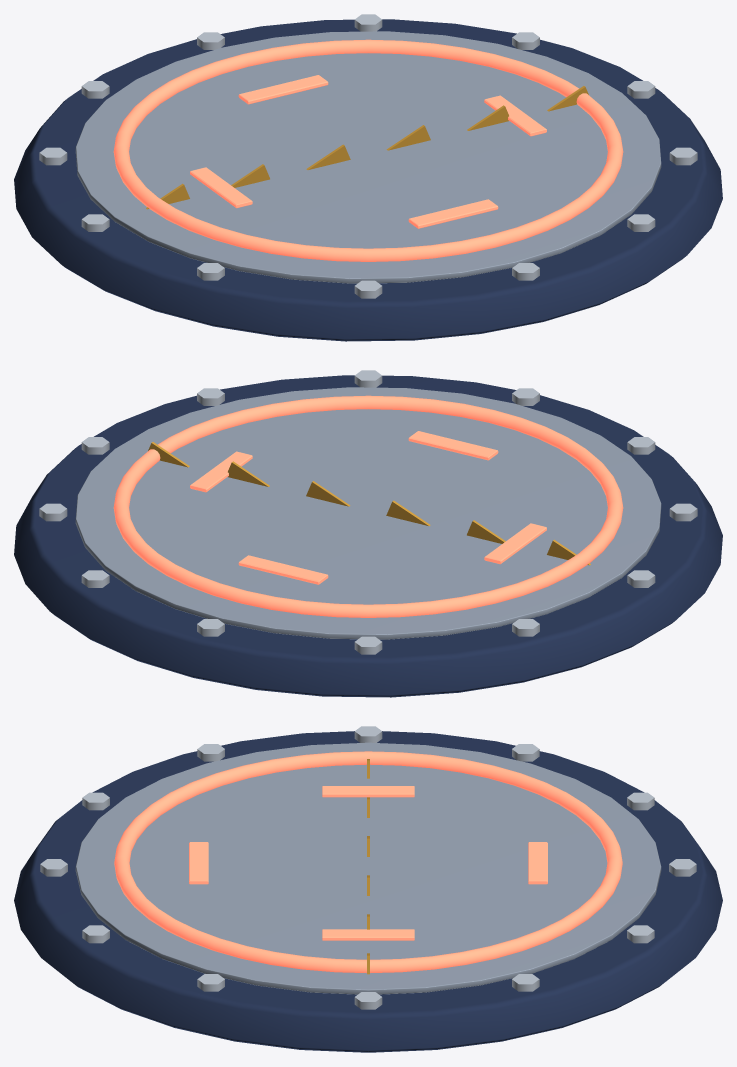
Rendered from socket_barricade_empty.glb.
The picture shows the model from 3 angles, top to bottom: view 1: azimuth 30°, elevation 25°; view 2: azimuth 150°, elevation 25°; view 3: azimuth 270°, elevation 25°; orthographic projection.
Parts seen in each view (by area): view 1: socket_barricade_empty_inlay, socket_barricade_empty_plate, socket_barricade_empty_ring, socket_barricade_empty_bolts, socket_barricade_empty_hazard, socket_barricade_empty_tick1, socket_barricade_empty_tick3, socket_barricade_empty_tick2, socket_barricade_empty_tick0; view 2: socket_barricade_empty_inlay, socket_barricade_empty_plate, socket_barricade_empty_ring, socket_barricade_empty_bolts, socket_barricade_empty_hazard, socket_barricade_empty_tick3, socket_barricade_empty_tick1, socket_barricade_empty_tick2, socket_barricade_empty_tick0; view 3: socket_barricade_empty_inlay, socket_barricade_empty_plate, socket_barricade_empty_ring, socket_barricade_empty_bolts, socket_barricade_empty_tick0, socket_barricade_empty_tick2, socket_barricade_empty_tick1, socket_barricade_empty_tick3.
Boxes of the visible parts, x1,y1,x2,y2 form: socket_barricade_empty_inlay: [75, 31, 661, 283]; socket_barricade_empty_plate: [14, 19, 722, 341]; socket_barricade_empty_ring: [113, 39, 623, 261]; socket_barricade_empty_bolts: [39, 14, 697, 298]; socket_barricade_empty_hazard: [146, 86, 588, 209]; socket_barricade_empty_tick1: [408, 199, 498, 228]; socket_barricade_empty_tick3: [238, 75, 328, 104]; socket_barricade_empty_tick2: [190, 167, 252, 208]; socket_barricade_empty_tick0: [484, 95, 546, 136]; socket_barricade_empty_inlay: [75, 387, 661, 639]; socket_barricade_empty_plate: [14, 375, 722, 697]; socket_barricade_empty_ring: [113, 395, 623, 617]; socket_barricade_empty_bolts: [39, 370, 697, 654]; socket_barricade_empty_hazard: [148, 442, 590, 565]; socket_barricade_empty_tick3: [238, 555, 328, 584]; socket_barricade_empty_tick1: [408, 431, 498, 460]; socket_barricade_empty_tick2: [484, 523, 546, 564]; socket_barricade_empty_tick0: [190, 451, 252, 492]; socket_barricade_empty_inlay: [75, 742, 661, 994]; socket_barricade_empty_plate: [14, 731, 722, 1052]; socket_barricade_empty_ring: [114, 751, 622, 972]; socket_barricade_empty_bolts: [40, 726, 696, 1009]; socket_barricade_empty_tick0: [322, 929, 414, 940]; socket_barricade_empty_tick2: [322, 786, 414, 797]; socket_barricade_empty_tick1: [189, 842, 208, 884]; socket_barricade_empty_tick3: [528, 842, 547, 884].
Bounding box in the file's own units: 2.3 × 0.1959 × 2.3.
